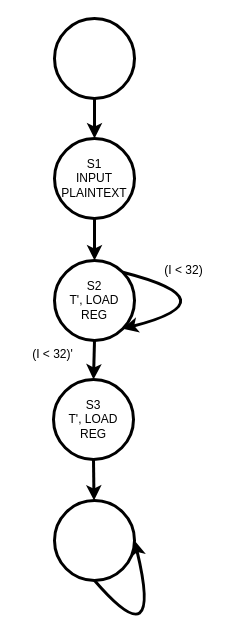
The diagram is 230 pixels wide and 633 high, and some of its shapes have lost their labels. Each missing label, with the centre of its shape:
"S0 I = 0" belongs at [94,58].
"S4 OUTPUT CIPHERTEXT" belongs at [94,540].
